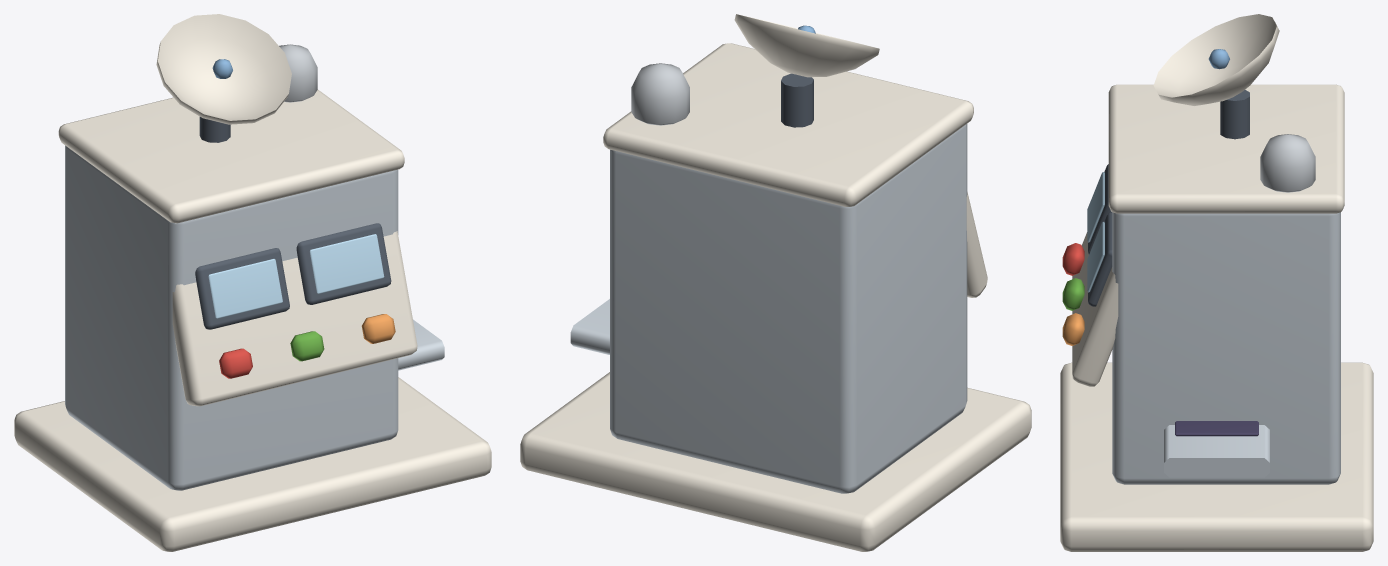
Rendered from machine_console.glb.
3 renders of one model, left to right at view 1: azimuth 30°, elevation 25°; view 2: azimuth 150°, elevation 25°; view 3: azimuth 270°, elevation 25°, orthographic. The views are drawn at different scales.
Visible parts, largest first — view 1: machine_console_structure, spin, lamp; view 2: machine_console_structure, spin, lamp; view 3: machine_console_structure, spin, lamp.
Part boxes in pixels (x1,y1,x2,y2): machine_console_structure: (14, 89, 491, 551); spin: (156, 14, 291, 142); lamp: (279, 44, 317, 102); machine_console_structure: (520, 43, 1031, 551); spin: (734, 14, 879, 127); lamp: (631, 63, 689, 125); machine_console_structure: (1060, 84, 1373, 551); spin: (1153, 14, 1279, 139); lamp: (1260, 134, 1315, 192).
Bounding box in the file's own units: 3.2 × 3.98 × 2.6.
